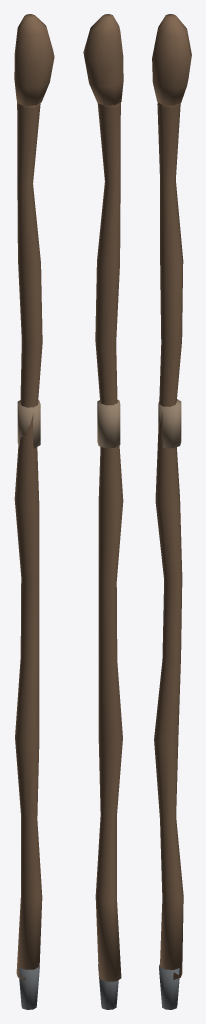
File: weapon_staff.glb
The picture shows the model from 3 angles, left to right: view 1: azimuth 30°, elevation 25°; view 2: azimuth 210°, elevation 25°; view 3: azimuth 330°, elevation 25°; orthographic projection.
Visible parts, largest first — view 1: weapon_staff; view 2: weapon_staff; view 3: weapon_staff.
Part boxes in pixels (x1,y1,x2,y2): weapon_staff: (14, 14, 54, 1009); weapon_staff: (83, 14, 123, 1009); weapon_staff: (152, 14, 191, 1009).
Bounding box in the file's own units: 0.076 × 1.94 × 0.068.
